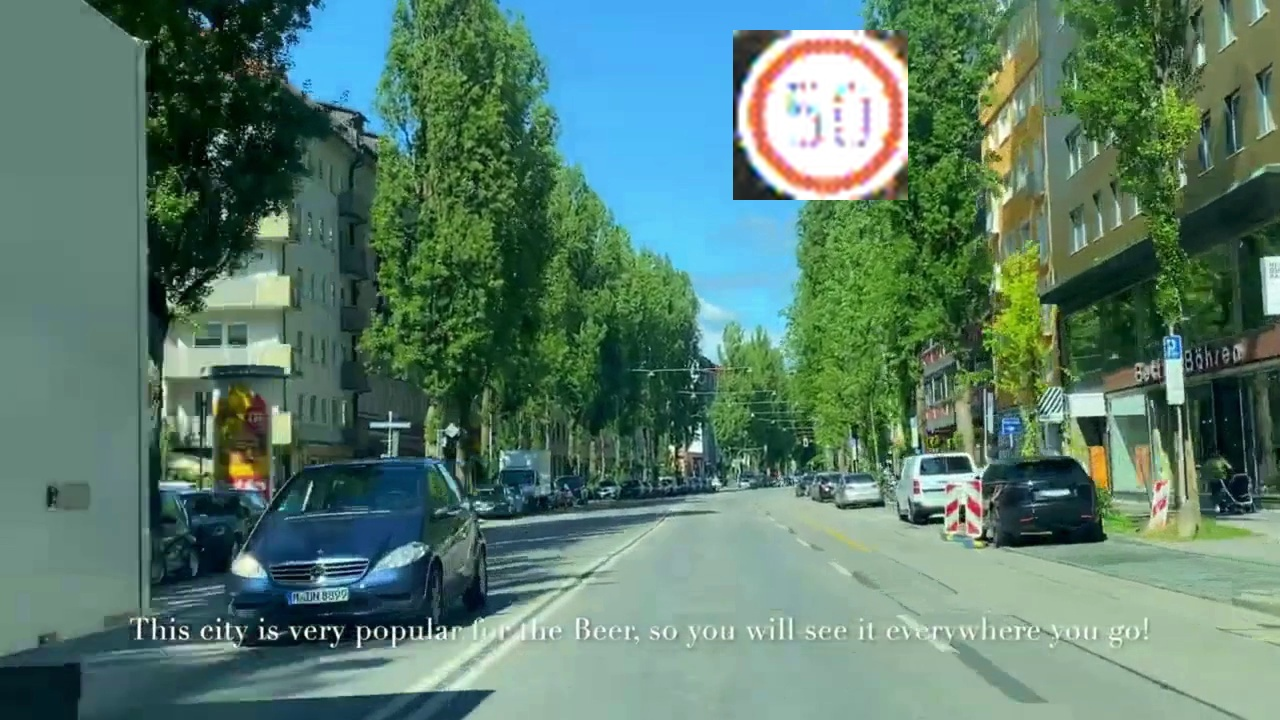Speed 50: (733, 30, 908, 200)
